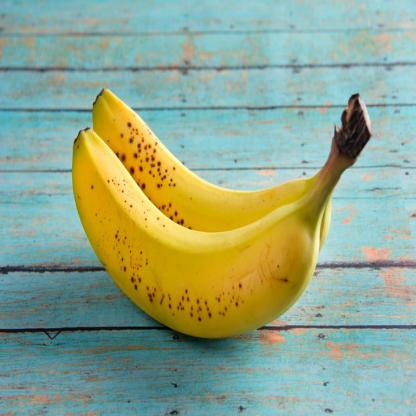banana: (66, 130, 319, 354), (79, 80, 314, 268)
